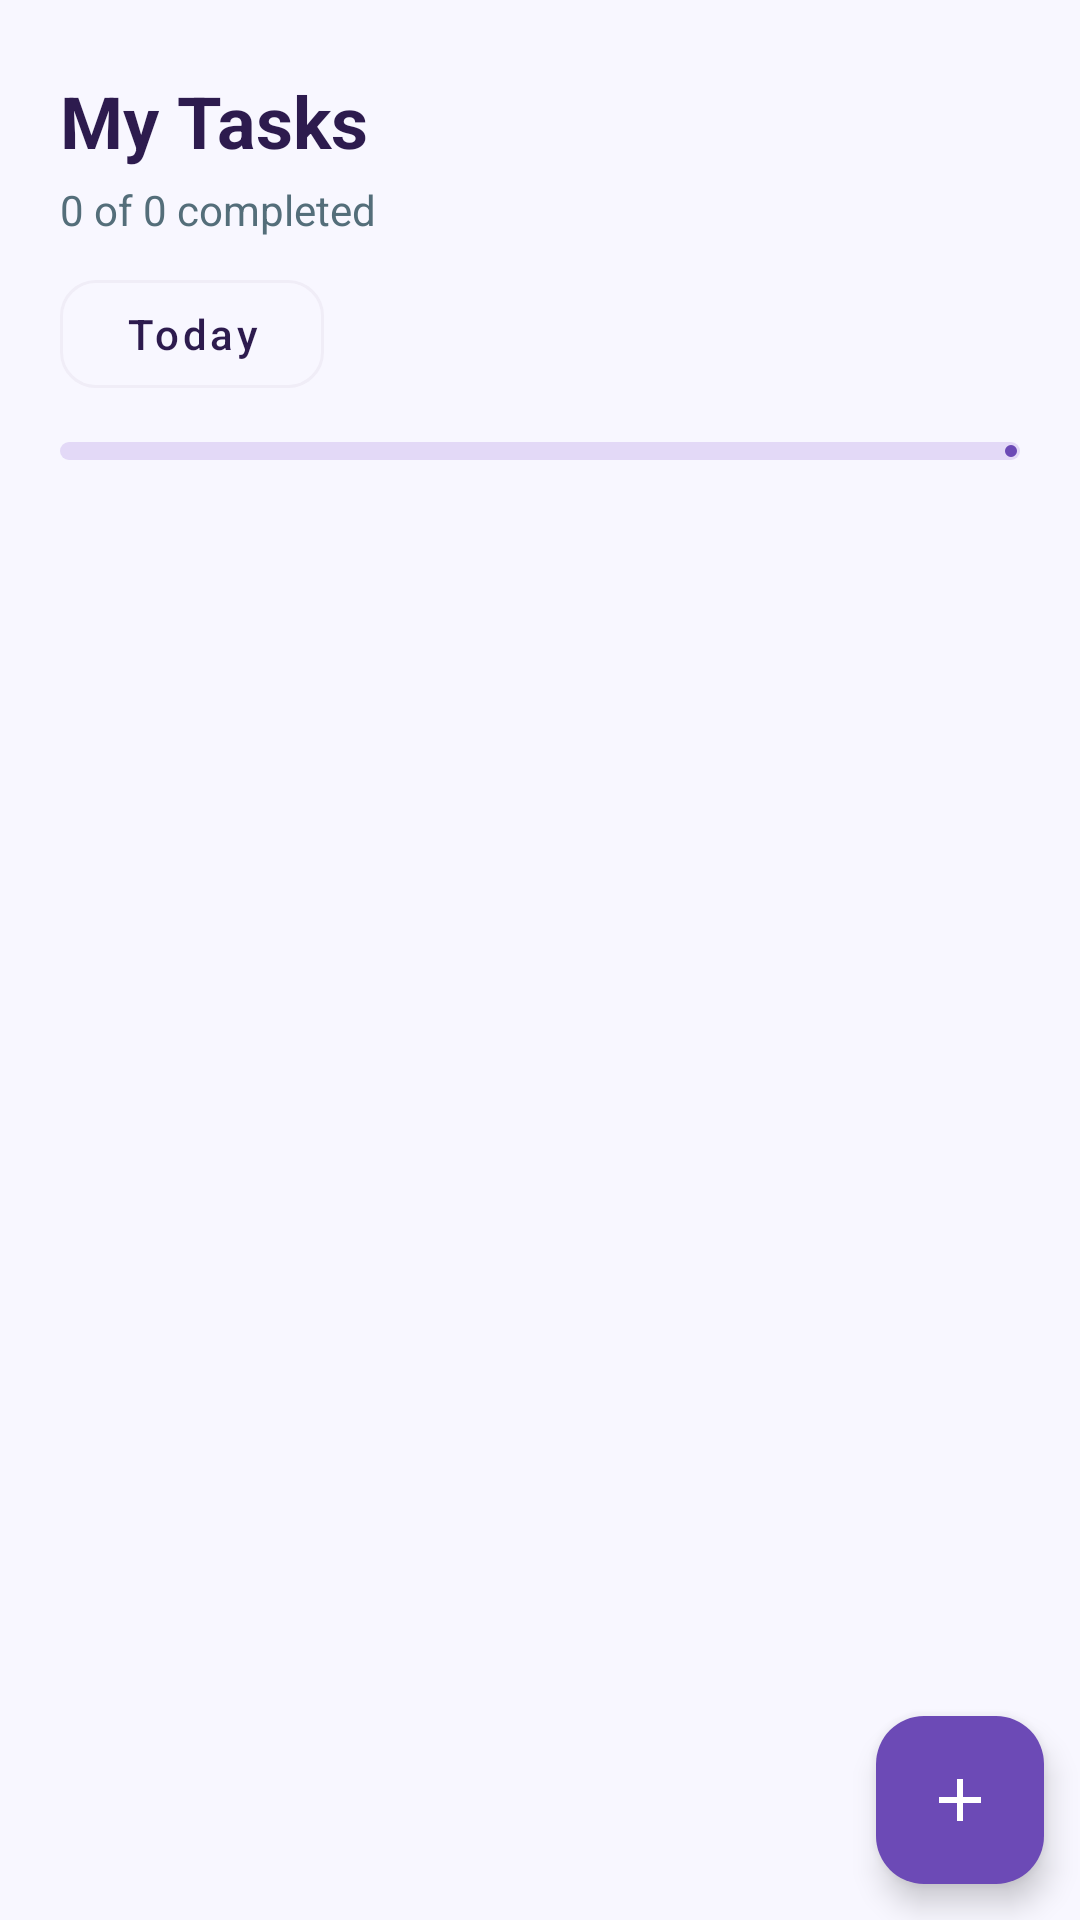

Icons on this 1080px x 1920px Android screen, each with the point to tap as (x,y):
Add Task: (960,1800)
